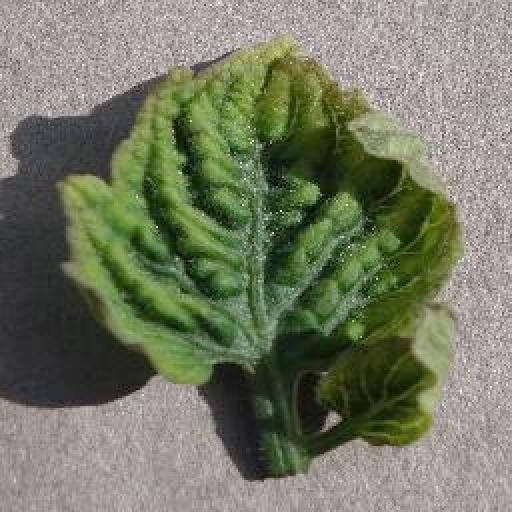disease_tomato: (56, 36, 466, 384)
